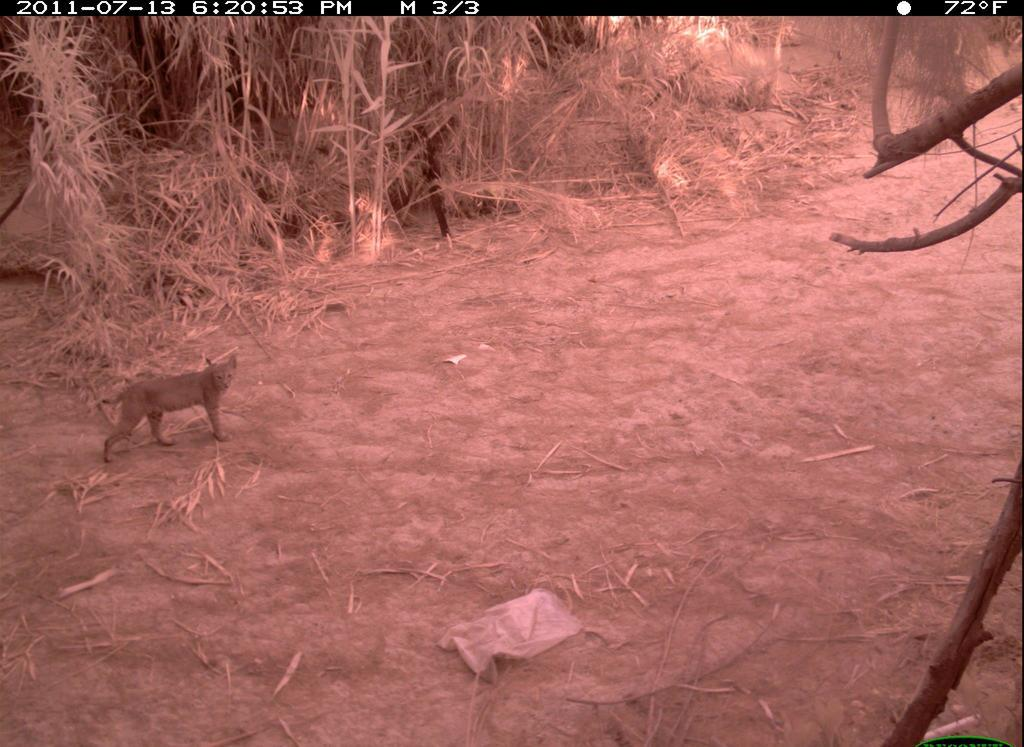bobcat: (84, 353, 248, 473)
